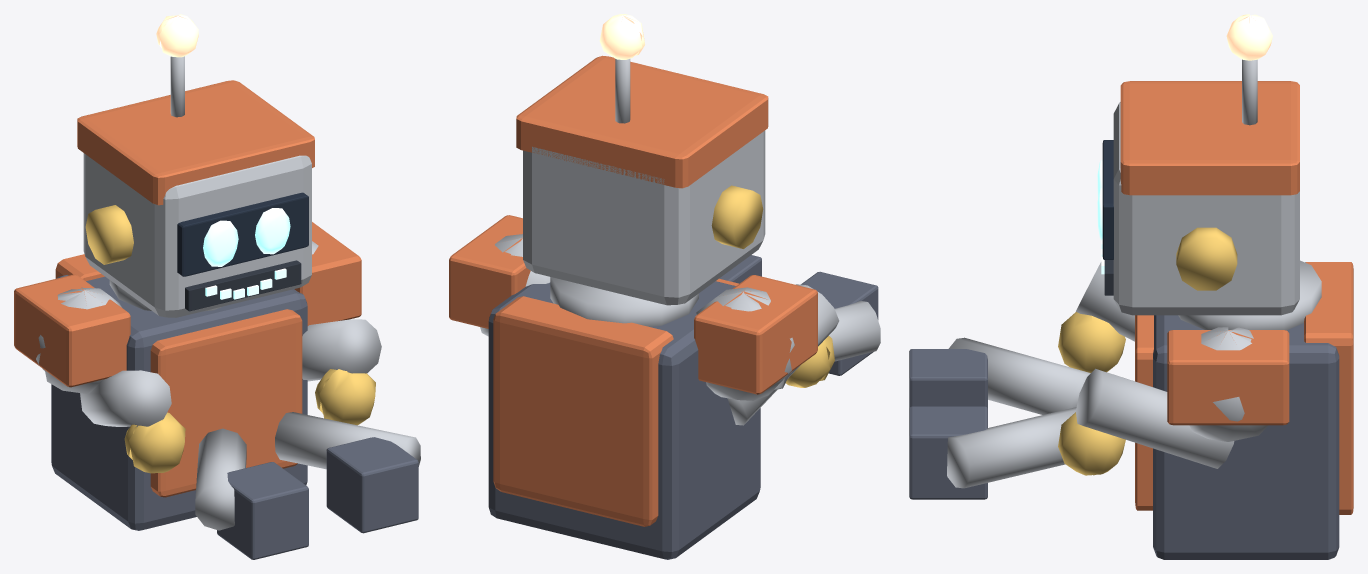
Rendered from driver_robot.glb.
3 renders of one model, left to right at view 1: azimuth 30°, elevation 25°; view 2: azimuth 150°, elevation 25°; view 3: azimuth 270°, elevation 25°, orthographic. The views are drawn at different scales.
Parts seen in each view (by area): view 1: D_Chest, D_HelmTop, D_Head, D_Torso, D_Pad, D_Glove.001, D_Glove, D_Visor, D_Pad.001, D_Upper, D_Lower.001, D_Upper.001 (+12 smaller); view 2: D_Back, D_Head, D_Torso, D_HelmTop, D_Pad, D_Pad.001, D_Neck, D_Ear, D_Lower, D_Glove, D_Shoulder, D_Bulb (+5 smaller); view 3: D_Torso, D_Head, D_HelmTop, D_Pad.001, D_Upper.001, D_Lower.001, D_Back, D_Glove.001, D_Lower, D_Glove, D_Ear.001, D_Elbow (+8 smaller).
Boxes of the visible parts, x1=… form: D_Chest: x1=150, y1=309, x2=302, y2=497; D_HelmTop: x1=77, y1=80, x2=314, y2=205; D_Head: x1=83, y1=153, x2=311, y2=317; D_Torso: x1=51, y1=275, x2=307, y2=530; D_Pad: x1=14, y1=274, x2=130, y2=387; D_Glove.001: x1=326, y1=437, x2=418, y2=533; D_Glove: x1=217, y1=462, x2=308, y2=559; D_Visor: x1=177, y1=192, x2=308, y2=276; D_Pad.001: x1=294, y1=222, x2=361, y2=325; D_Upper: x1=80, y1=370, x2=171, y2=426; D_Lower.001: x1=275, y1=412, x2=420, y2=469; D_Upper.001: x1=302, y1=319, x2=381, y2=381; D_Back: x1=493, y1=296, x2=673, y2=526; D_Head: x1=523, y1=130, x2=765, y2=305; D_Torso: x1=488, y1=281, x2=760, y2=559; D_HelmTop: x1=516, y1=55, x2=768, y2=188; D_Pad: x1=694, y1=275, x2=817, y2=394; D_Pad.001: x1=449, y1=215, x2=530, y2=328; D_Neck: x1=550, y1=277, x2=698, y2=326; D_Ear: x1=711, y1=185, x2=763, y2=248; D_Lower: x1=829, y1=301, x2=880, y2=361; D_Glove: x1=801, y1=271, x2=878, y2=375; D_Shoulder: x1=696, y1=287, x2=794, y2=400; D_Bulb: x1=599, y1=14, x2=644, y2=59; D_Torso: x1=1153, y1=262, x2=1339, y2=559; D_Head: x1=1113, y1=102, x2=1299, y2=315; D_HelmTop: x1=1120, y1=81, x2=1299, y2=195; D_Pad.001: x1=1167, y1=330, x2=1289, y2=425; D_Upper.001: x1=1075, y1=368, x2=1234, y2=468; D_Lower.001: x1=947, y1=407, x2=1076, y2=488; D_Back: x1=1304, y1=262, x2=1353, y2=514; D_Glove.001: x1=909, y1=406, x2=987, y2=499; D_Lower: x1=948, y1=337, x2=1090, y2=414; D_Glove: x1=909, y1=349, x2=987, y2=408; D_Ear.001: x1=1176, y1=227, x2=1237, y2=290; D_Elbow: x1=1058, y1=312, x2=1125, y2=372.
Size of the model in its own units: 1.04 by 1.55 by 1.24.
